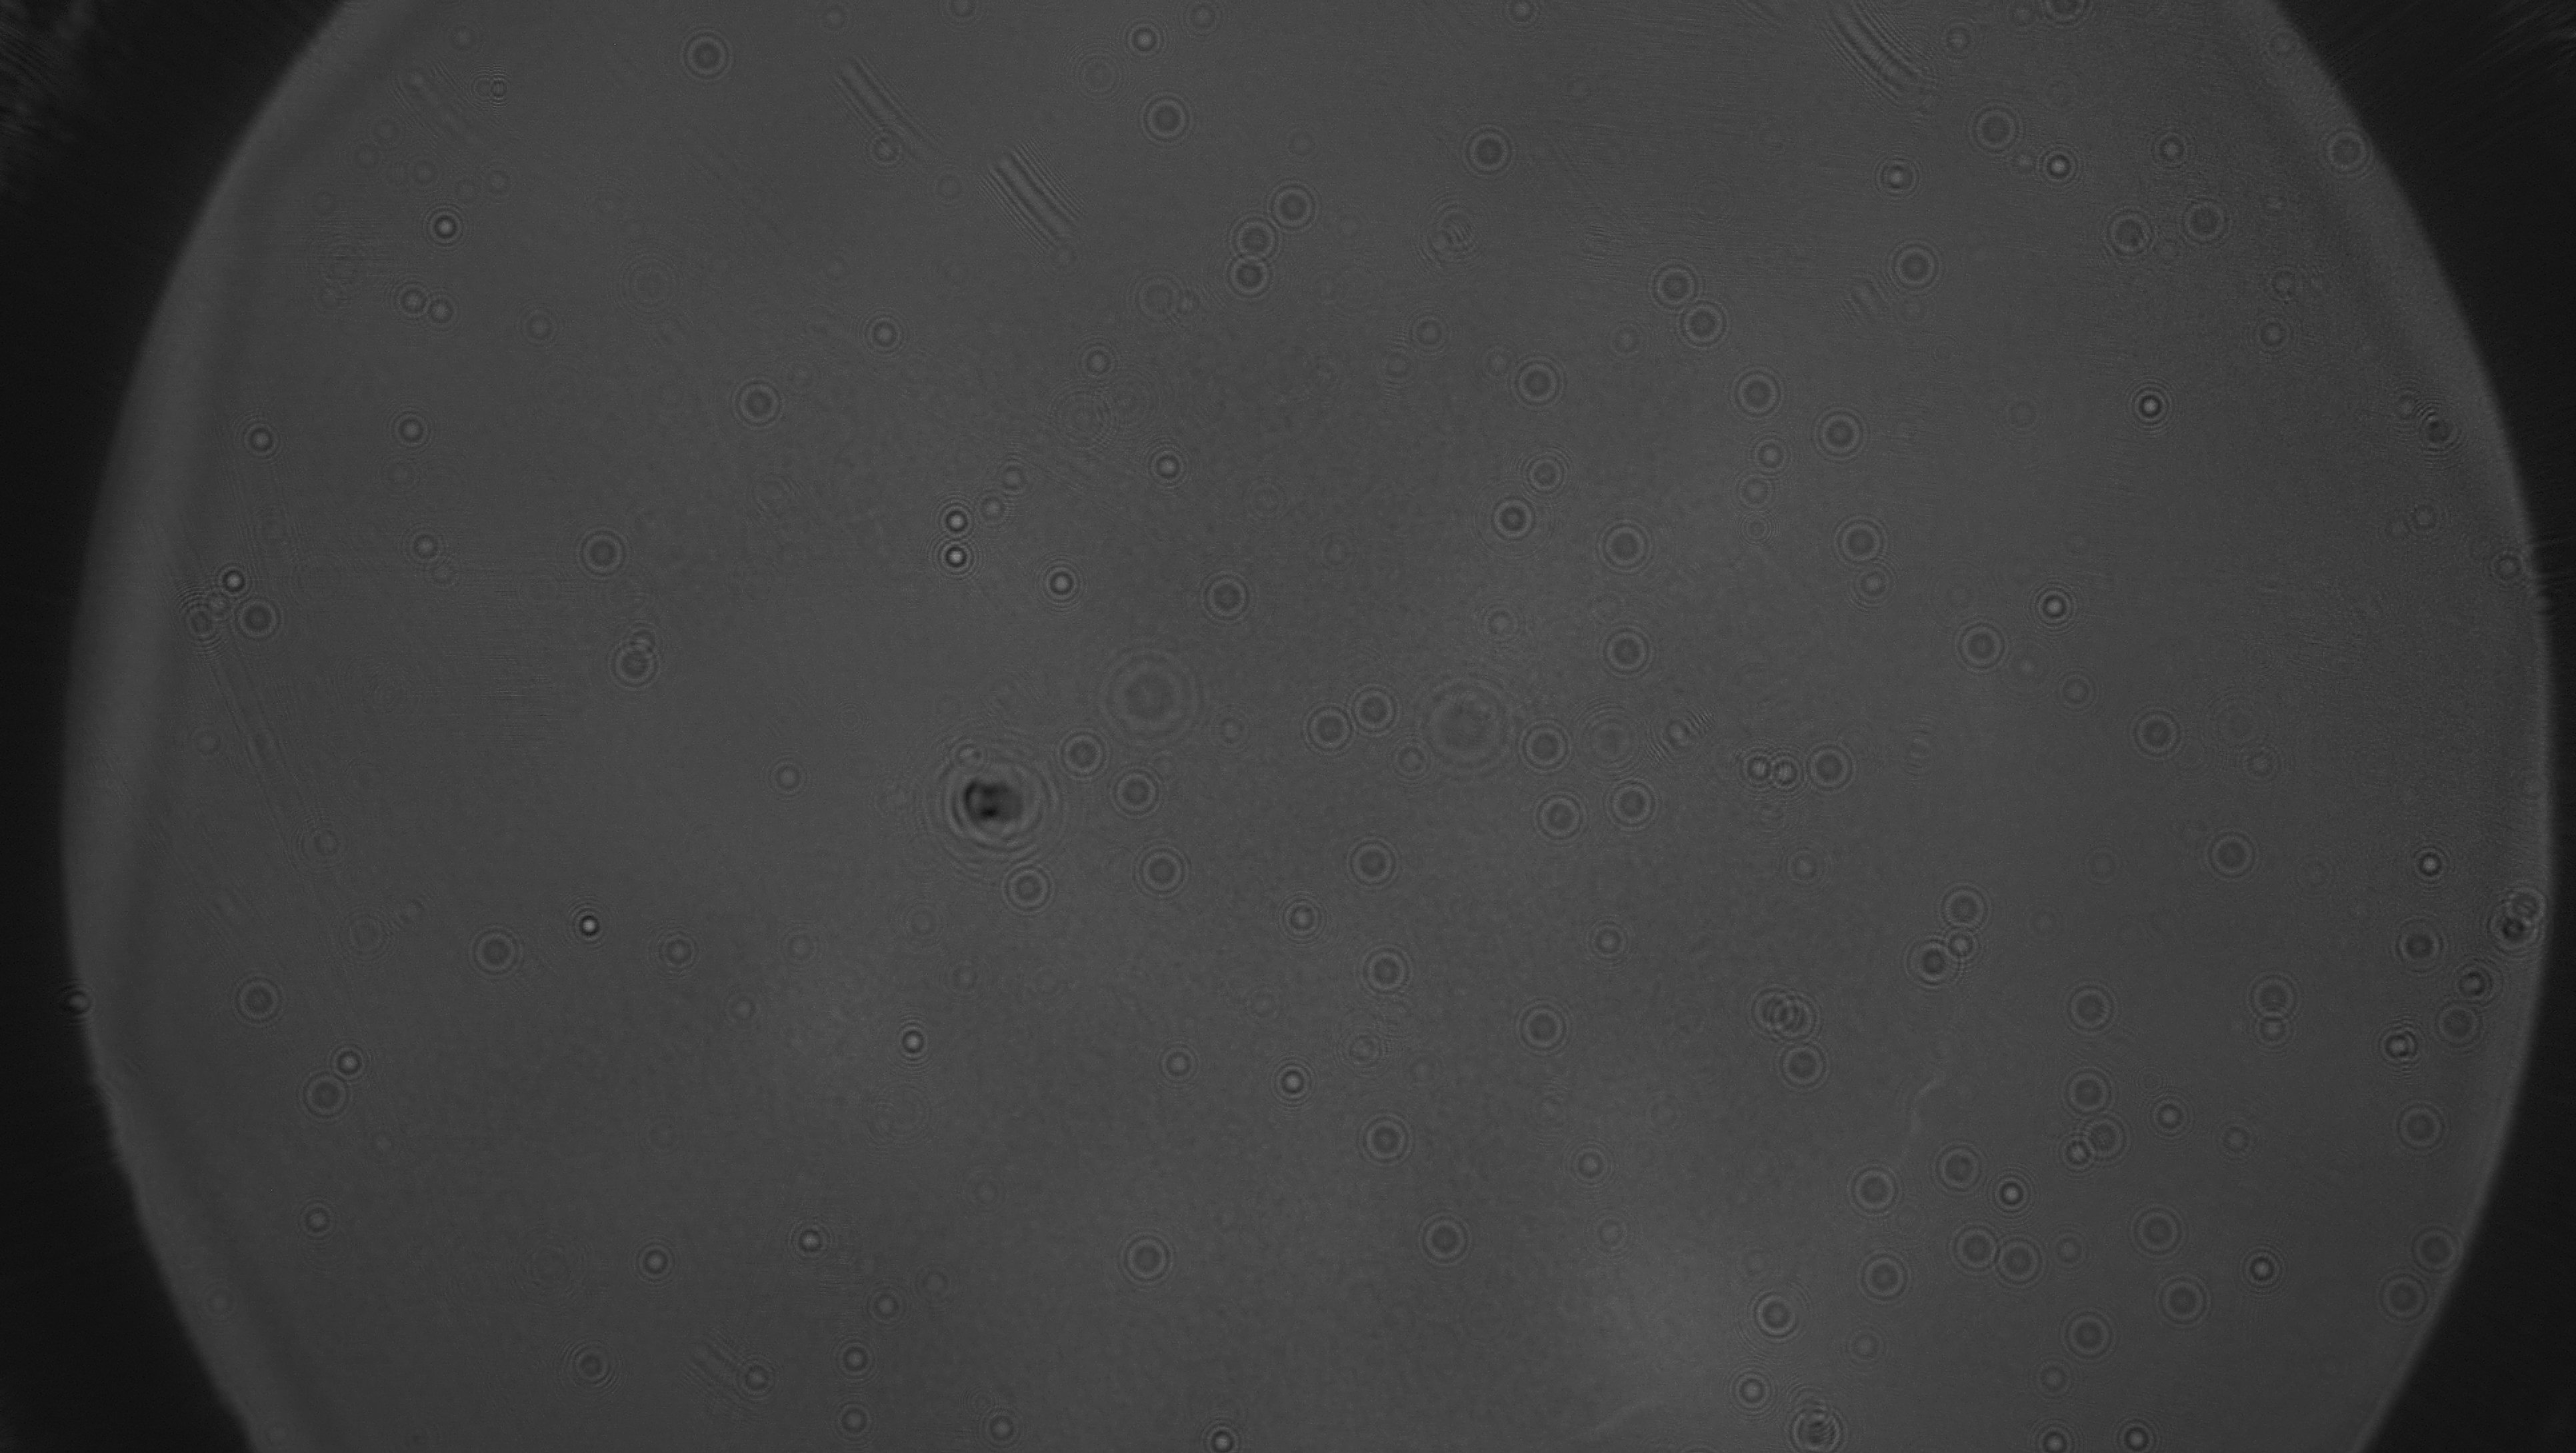bead: (1343, 1104, 1430, 1177), (1109, 1223, 1184, 1290), (1410, 1207, 1483, 1274), (1875, 235, 1951, 296), (724, 373, 793, 439), (1957, 94, 2026, 159), (456, 920, 527, 984), (1338, 832, 1405, 897), (1136, 87, 1201, 152), (1504, 352, 1571, 416), (1721, 363, 1789, 427), (1504, 995, 1573, 1057), (1447, 119, 1520, 177), (1849, 1251, 1921, 1310), (571, 520, 637, 584), (225, 968, 290, 1032), (1806, 402, 1870, 467), (1840, 1163, 1909, 1223), (2150, 1272, 2220, 1331), (2056, 977, 2120, 1041), (2173, 189, 2238, 251), (1575, 910, 1640, 972), (1189, 568, 1258, 627), (674, 23, 736, 87), (1638, 251, 1702, 313), (855, 303, 920, 363), (1258, 173, 1325, 232), (1129, 842, 1194, 901), (1594, 510, 1652, 575), (993, 862, 1062, 917), (290, 1065, 354, 1124), (1992, 1234, 2056, 1292), (1900, 933, 1966, 989), (1553, 1134, 1621, 1189), (2051, 1065, 2125, 1115), (1808, 731, 1861, 800), (1950, 616, 2012, 674), (1343, 674, 1401, 736), (1670, 297, 1737, 350), (2128, 1202, 2189, 1260), (1513, 444, 1575, 501), (1353, 938, 1415, 995), (2236, 970, 2307, 1019), (598, 635, 662, 690), (556, 896, 617, 950), (2390, 1099, 2452, 1154), (2125, 706, 2189, 759), (1479, 494, 1545, 545), (2367, 1269, 2427, 1324), (407, 204, 476, 251), (757, 750, 821, 802), (883, 1016, 947, 1067), (1744, 428, 1801, 485), (1532, 788, 1587, 846), (2061, 1303, 2116, 1361), (2399, 1223, 2461, 1274), (1989, 1170, 2051, 1221), (1223, 214, 1286, 264), (320, 1034, 384, 1083), (1596, 625, 1660, 674), (1601, 780, 1665, 830), (1829, 515, 1895, 563), (1109, 763, 1166, 818), (1936, 880, 1996, 931), (2024, 580, 2086, 630), (1293, 704, 1355, 754), (1771, 1041, 1833, 1090), (1716, 1370, 1778, 1419), (228, 593, 285, 646), (1518, 717, 1571, 773), (2203, 823, 2256, 880), (2144, 1083, 2197, 1140), (1139, 441, 1194, 494), (1739, 979, 1794, 1032), (2120, 381, 2176, 432), (2024, 1359, 2086, 1405), (628, 1234, 681, 1287), (828, 1331, 883, 1382), (2319, 131, 2378, 179), (2040, 138, 2093, 189), (2238, 1244, 2291, 1295), (1054, 727, 1109, 777), (1116, 16, 1169, 65), (384, 402, 437, 451), (1944, 1223, 1997, 1272), (1155, 1034, 1201, 1090), (1261, 1053, 1320, 1097), (290, 1195, 343, 1242), (1224, 250, 1274, 299), (1035, 563, 1086, 611), (234, 416, 285, 464), (1069, 334, 1125, 377), (1270, 896, 1325, 938), (384, 276, 432, 322), (2056, 1129, 2102, 1177), (828, 1400, 878, 1444), (931, 536, 980, 579), (396, 527, 449, 566), (656, 931, 702, 975), (927, 499, 977, 538)
